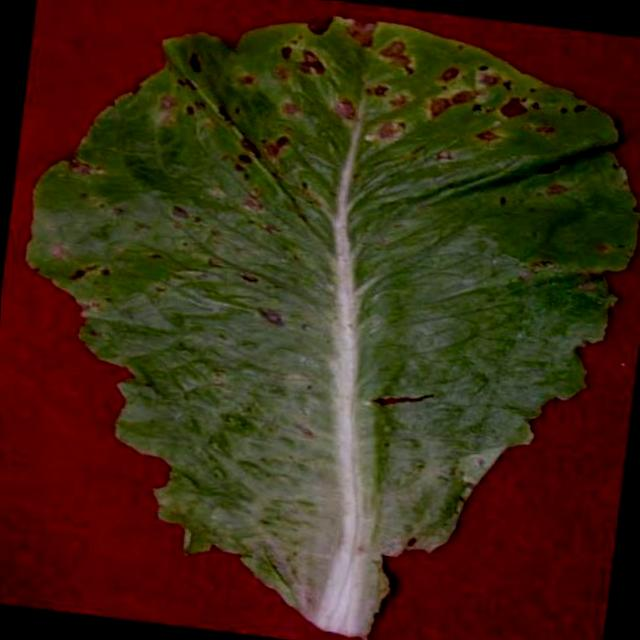Septoria_Blight: (144, 64, 552, 366)
